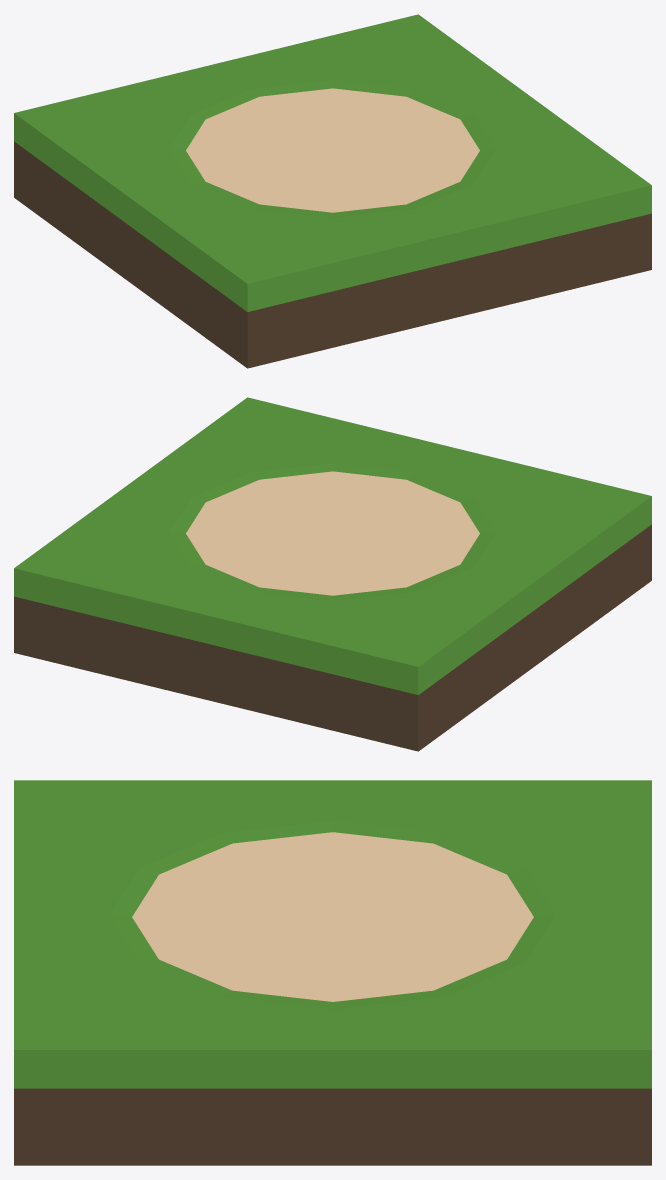
File: tile-golf-sand.glb
The picture shows the model from 3 angles, top to bottom: view 1: azimuth 30°, elevation 25°; view 2: azimuth 150°, elevation 25°; view 3: azimuth 270°, elevation 25°; orthographic projection. The views are drawn at different scales.
Parts seen in each view (by area): view 1: tile-golf-sand; view 2: tile-golf-sand; view 3: tile-golf-sand.
Part boxes in pixels (x1,y1,x2,y2): tile-golf-sand: [14, 14, 651, 368]; tile-golf-sand: [14, 397, 651, 751]; tile-golf-sand: [14, 780, 651, 1165].
Size of the model in its own units: 30 by 6 by 30.
Materials: 1 (1 with a texture image).
